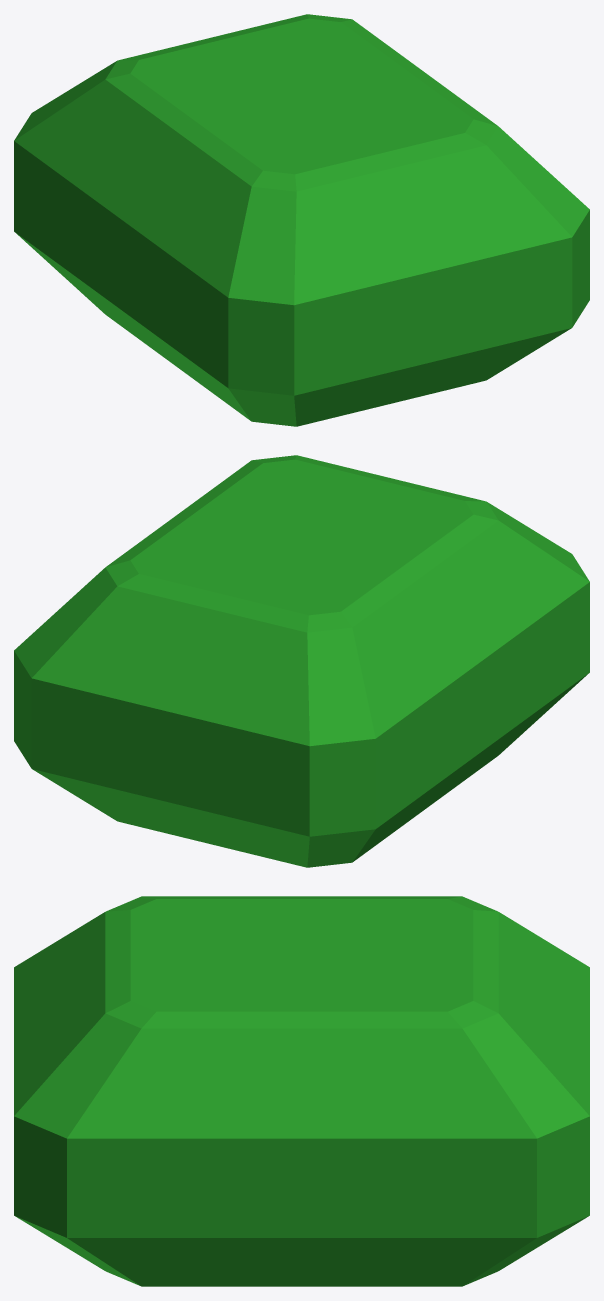
File: Emerald_whole.fbx
3 views of the same model, one above another, from view 1: azimuth 30°, elevation 25°; view 2: azimuth 150°, elevation 25°; view 3: azimuth 270°, elevation 25° (orthographic). The views are drawn at different scales.
Visible parts, largest first — view 1: Emerald_whole; view 2: Emerald_whole; view 3: Emerald_whole.
Boxes of the visible parts, bbox=[...] form: Emerald_whole: bbox=[14, 14, 589, 426]; Emerald_whole: bbox=[14, 455, 589, 867]; Emerald_whole: bbox=[14, 896, 589, 1286].
Size of the model in its own units: 788 by 516 by 990.
